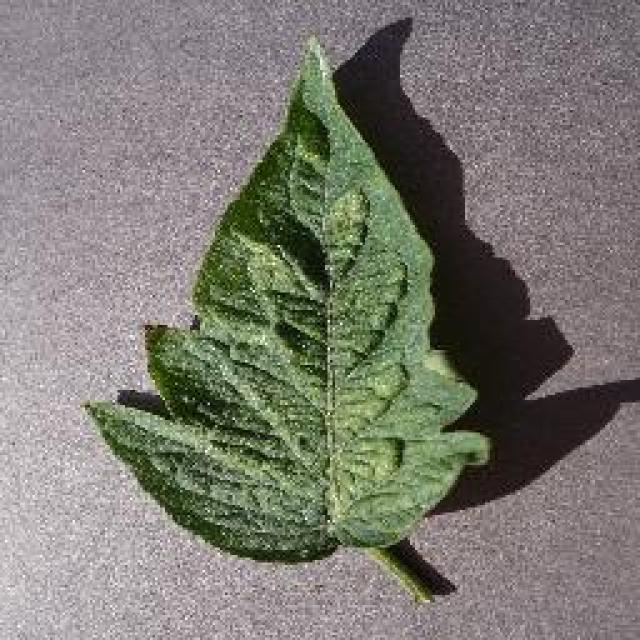Tomato___Spider_mites Two-spotted_spider_mite: (85, 38, 488, 598)
